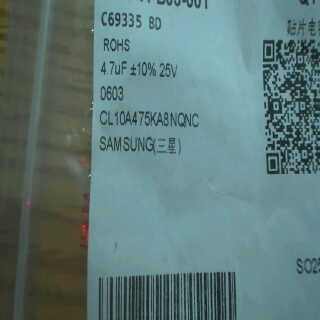4.7uF: (97, 57, 130, 84)
